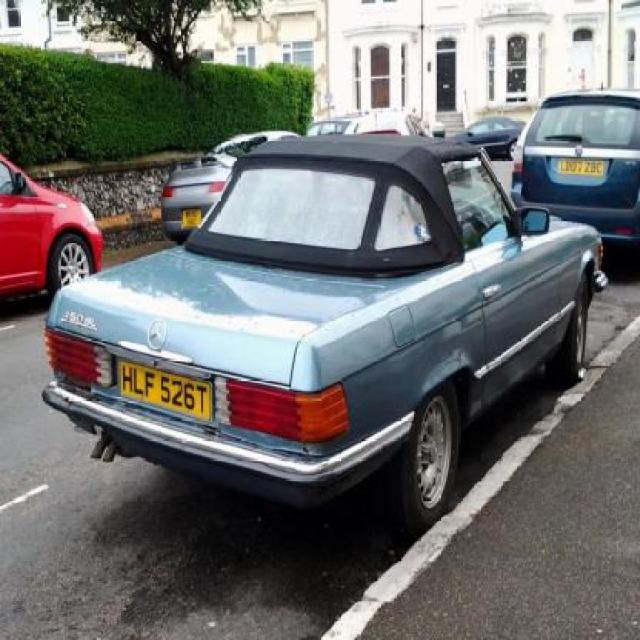License-Plates: (116, 355, 213, 422)
